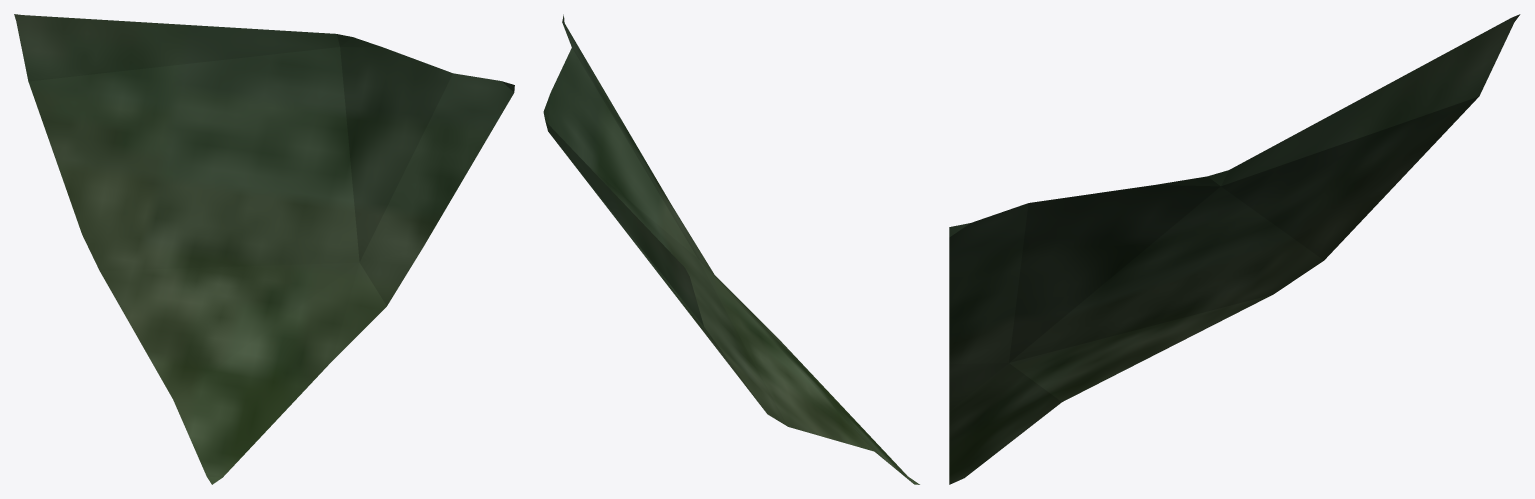
3 renders of one model, left to right at view 1: azimuth 30°, elevation 25°; view 2: azimuth 150°, elevation 25°; view 3: azimuth 270°, elevation 25°, orthographic. The views are drawn at different scales.
Size of the model in its own units: 0.6821 by 0.7018 by 0.7727.
Materials: 1 (1 with a texture image).
